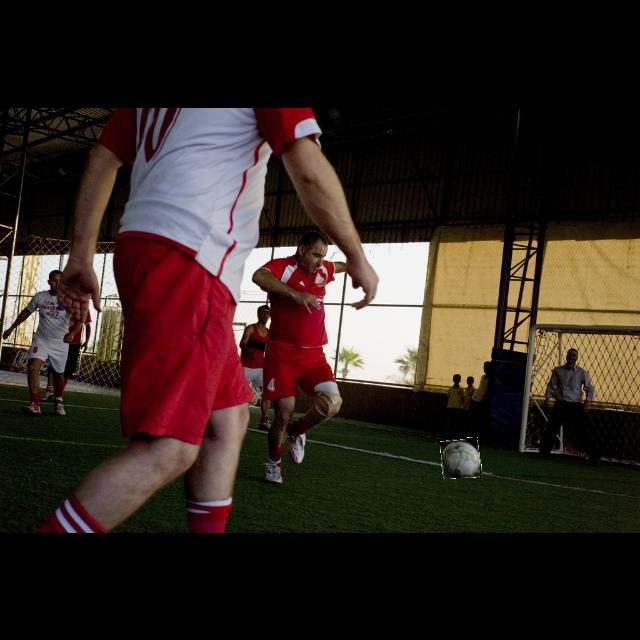Football: (441, 438, 481, 478)
